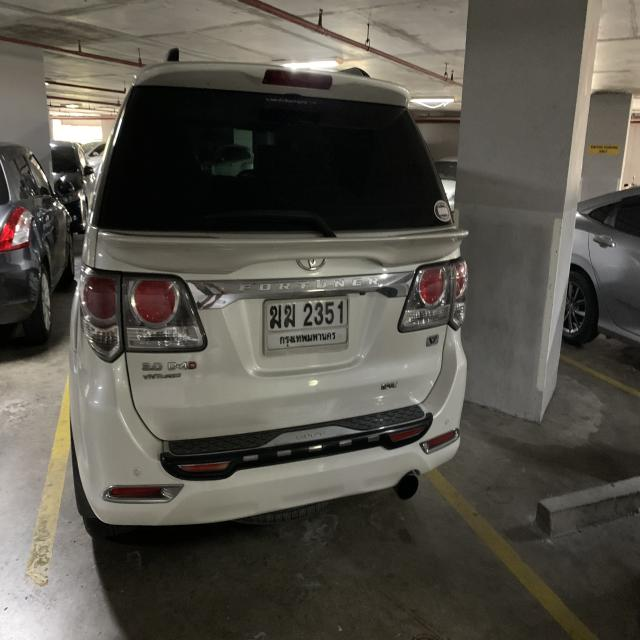license_plate: (261, 294, 352, 353)
